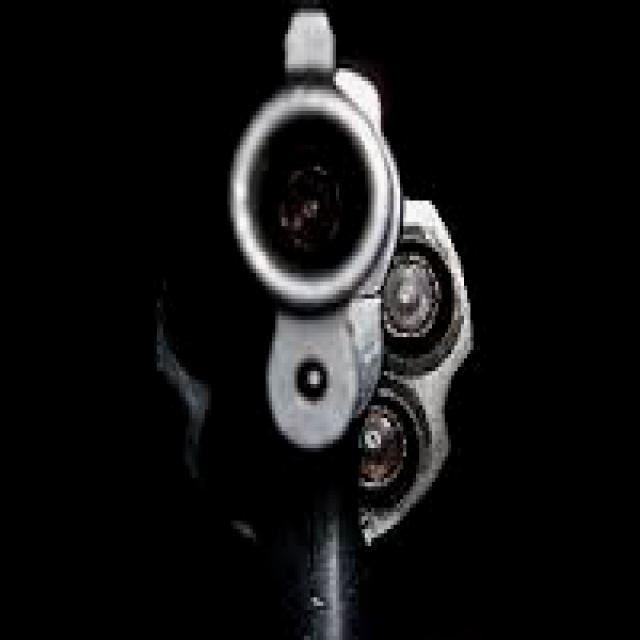handgun: (147, 9, 467, 636)
